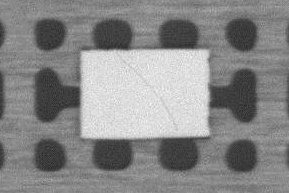DIE_CRACK: (116, 53, 179, 131)
